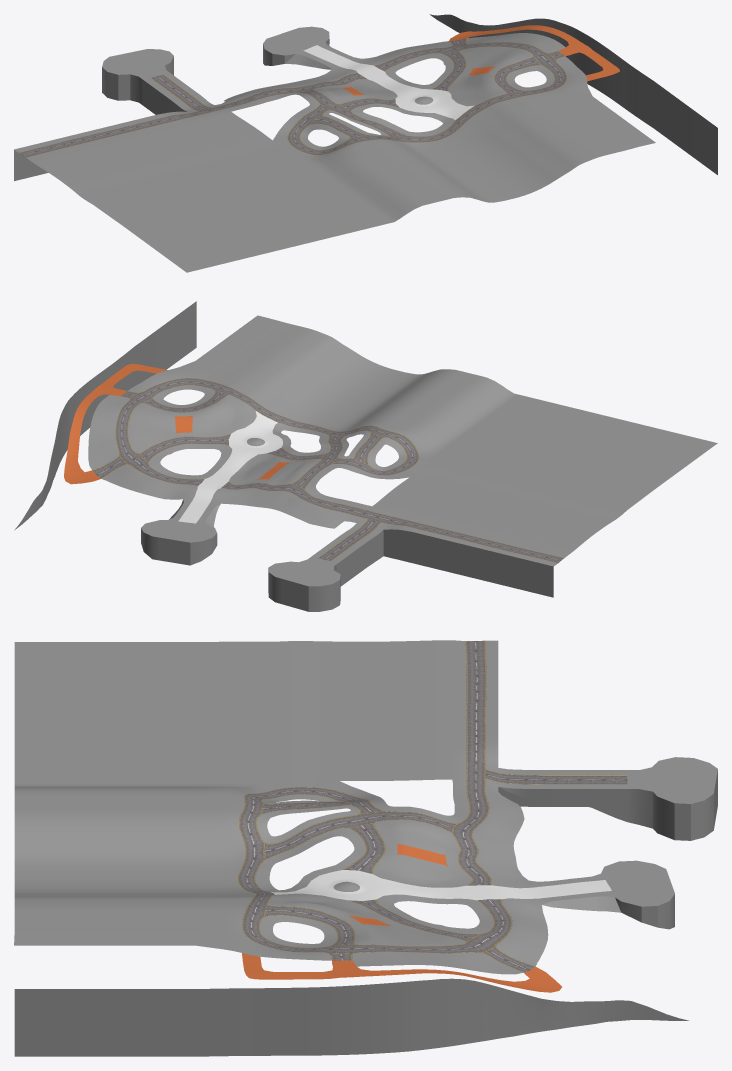
File: map2.fbx
The picture shows the model from 3 angles, top to bottom: view 1: azimuth 30°, elevation 25°; view 2: azimuth 150°, elevation 25°; view 3: azimuth 270°, elevation 25°; orthographic projection. The views are drawn at different scales.
Parts seen in each view (by area): view 1: map; view 2: map; view 3: map.
Part boxes in pixels (bbox=[...]): map: bbox=[14, 14, 717, 272]; map: bbox=[14, 301, 717, 611]; map: bbox=[14, 640, 717, 1056].
Size of the model in its own units: 34694 by 3051 by 27842.
